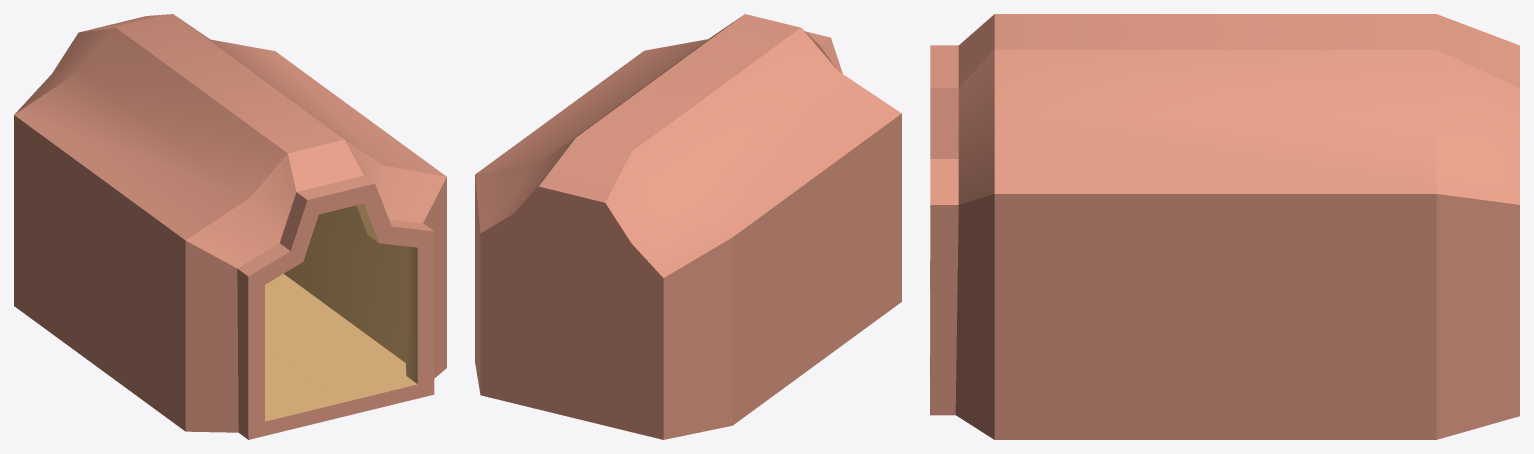
Rendered from RuinsBigChamber.fbx.
3 views of the same model, side by side, from view 1: azimuth 30°, elevation 25°; view 2: azimuth 150°, elevation 25°; view 3: azimuth 270°, elevation 25° (orthographic). The views are drawn at different scales.
Visible parts, largest first — view 1: Chamber; view 2: Chamber; view 3: Chamber.
Part boxes in pixels (x1,y1,x2,y2): Chamber: [14, 14, 446, 439]; Chamber: [475, 14, 901, 439]; Chamber: [930, 14, 1519, 439].
Size of the model in its own units: 9167 by 8491 by 13919.
